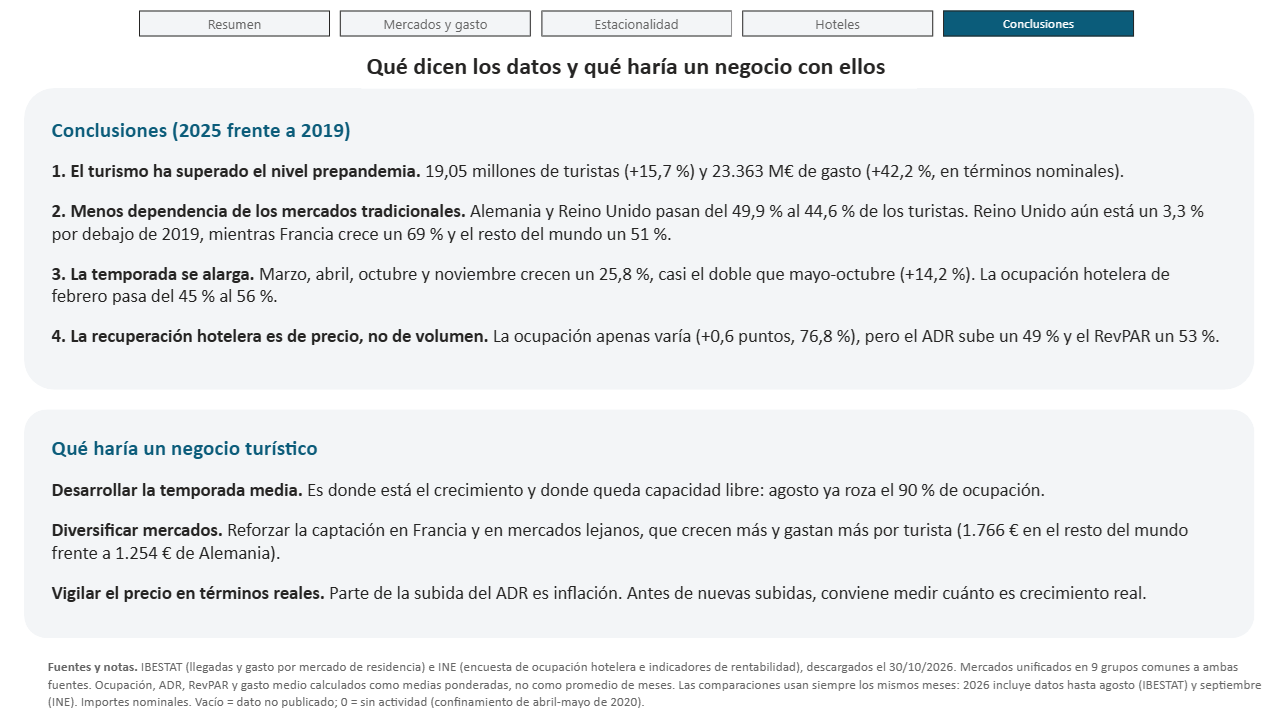

What the dashboard file says about the page in this screenshot:
{"tool":"powerbi","page":{"name":"Conclusiones","canvas":[1280,720],"ordinal":4},"visuals":[{"type":"shape","box":[25.6,90.3,1230.4,301.9],"z":0},{"type":"textbox","box":[47.2,113.2,1187.3,256.1],"z":1000},{"type":"textbox","box":[362.5,47.2,555.2,43.1],"z":2000},{"type":"shape","box":[25.6,411,1230.4,229.1],"z":3000},{"type":"textbox","box":[47.2,432.6,1188.6,187.3],"z":4000},{"type":"textbox","box":[43.1,653.6,1237.1,66],"z":5000},{"type":"pageNavigator","box":[140,13,1000,27],"z":6000}]}

Visuals, with their boxes in screenshot pixels (x1, y1, x2, y2), scaled from the page's 1280x720 canvas onto the 1277x719 screenshot:
shape: <box>26,90,1253,392</box>
textbox: <box>47,113,1232,369</box>
textbox: <box>362,47,916,90</box>
shape: <box>26,410,1253,639</box>
textbox: <box>47,432,1233,619</box>
textbox: <box>43,653,1276,718</box>
pageNavigator: <box>140,13,1137,40</box>
